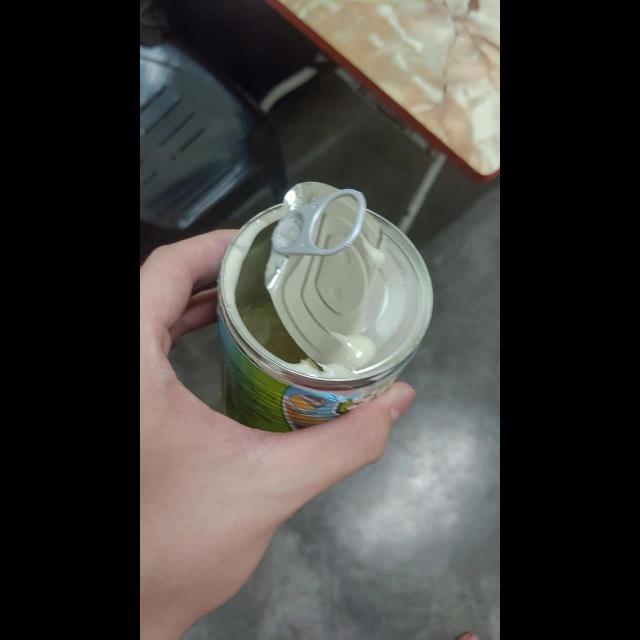aba de lata: (276, 180, 369, 260)
lata: (215, 179, 432, 429)
